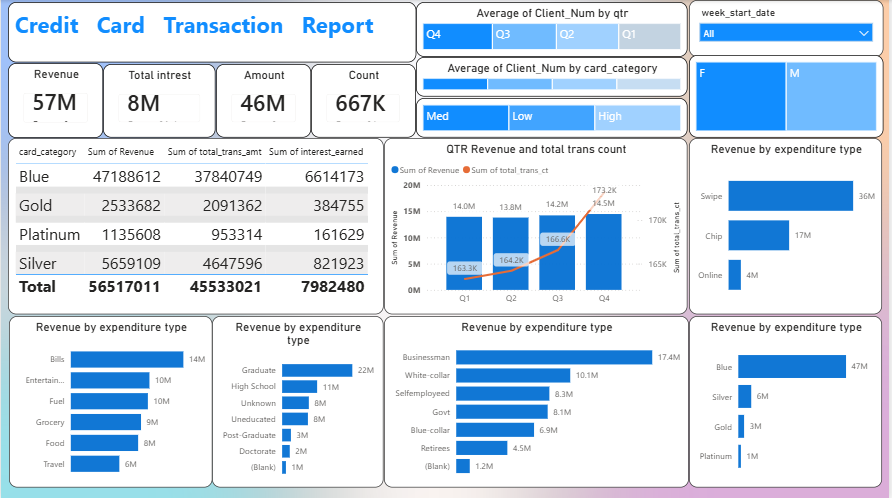

The dashboard page shown, as its layout file describes it:
{"tool":"powerbi","page":{"name":"Credit Card Transaction Report Dashboard - 1 ","canvas":[1280,720],"ordinal":1},"visuals":[{"type":"textbox","box":[9.8,3.3,587.6,86.8],"z":0},{"type":"lineStackedColumnComboChart","title":"QTR Revenue and total trans count","fields":{"Category":["public cc_detail.qtr"],"Y":["Sum(public cc_detail.Revenue)"],"Y2":["Sum(public cc_detail.total_trans_ct)"]},"box":[551.6,198.1,437,253.7],"z":1000},{"type":"barChart","title":" Revenue by expenditure type","fields":{"Y":["Sum(public cc_detail.Revenue)"],"Category":["public cc_detail.exp_type"]},"box":[11.5,455,293,247.2],"z":2000},{"type":"barChart","title":" Revenue by expenditure type","fields":{"Y":["Sum(public cc_detail.Revenue)"],"Category":["Cust_new.Education_Level"]},"box":[304,455.2,246.9,246.9],"z":3000},{"type":"barChart","title":" Revenue by expenditure type","fields":{"Y":["Sum(public cc_detail.Revenue)"],"Category":["Cust_new.Customer_Job"]},"box":[551.6,455,438.7,247.2],"z":4000},{"type":"barChart","title":" Revenue by expenditure type","fields":{"Y":["Sum(public cc_detail.Revenue)"],"Category":["public cc_detail.card_category"]},"box":[990.3,455,278.3,247.2],"z":5000},{"type":"barChart","title":" Revenue by expenditure type","fields":{"Y":["Sum(public cc_detail.Revenue)"],"Category":["public cc_detail.use_chip"]},"box":[990.3,198.1,278.3,253.7],"z":6000},{"type":"tableEx","fields":{"Values":["public cc_detail.card_category","Sum(public cc_detail.Revenue)","Sum(public cc_detail.total_trans_amt)","Sum(public cc_detail.interest_earned)"]},"box":[10.1,198.2,540.9,253.6],"z":7000},{"type":"cardVisual","title":"Revenue","fields":{"Data":["Sum(public cc_detail.Revenue)"]},"box":[9.8,90,137.5,108],"z":8000},{"type":"cardVisual","title":"Amount","fields":{"Data":["Sum(public cc_detail.total_trans_amt)"]},"box":[309.4,91.7,137.5,106.4],"z":9000},{"type":"cardVisual","title":"Total intrest","fields":{"Data":["Sum(public cc_detail.interest_earned)"]},"box":[147.3,91.7,162,106.4],"z":10000},{"type":"cardVisual","title":"Count","fields":{"Data":["Sum(public cc_detail.total_trans_ct)"]},"box":[446.9,91.7,150.6,106.4],"z":11000},{"type":"slicer","fields":{"Values":["public cc_detail.week_start_date"]},"box":[990.3,0,279.9,81.8],"z":12000},{"type":"treemap","fields":{"Group":["public cc_detail.qtr"],"Values":["Avg(Cust_new.Client_Num)"]},"box":[597.4,3.3,391.2,78.6],"z":13000},{"type":"treemap","fields":{"Group":["Cust_new.Gender"],"Values":["Avg(Cust_new.Client_Num)"]},"box":[990.3,78.6,279.9,119.5],"z":14000},{"type":"treemap","fields":{"Group":["public cc_detail.card_category"],"Values":["Avg(Cust_new.Client_Num)"]},"box":[597.4,81.8,391.2,57.3],"z":15000},{"type":"treemap","fields":{"Group":["Cust_new.IncomeGroup"],"Values":["Avg(Cust_new.Client_Num)"]},"box":[597.4,140.8,391.2,57.3],"z":16000}]}

Visuals, with their boxes in screenshot pixels (x1, y1, x2, y2), scaled from the page's 1280x720 canvas onto the 892x498 screenshot:
textbox: BBox(7, 2, 416, 62)
"QTR Revenue and total trans count" lineStackedColumnComboChart: BBox(384, 137, 689, 312)
" Revenue by expenditure type" barChart: BBox(8, 315, 212, 486)
" Revenue by expenditure type" barChart: BBox(212, 315, 384, 486)
" Revenue by expenditure type" barChart: BBox(384, 315, 690, 486)
" Revenue by expenditure type" barChart: BBox(690, 315, 884, 486)
" Revenue by expenditure type" barChart: BBox(690, 137, 884, 312)
tableEx - public cc_detail.card_category x Sum(public cc_detail.Revenue): BBox(7, 137, 384, 312)
"Revenue" cardVisual: BBox(7, 62, 103, 137)
"Amount" cardVisual: BBox(216, 63, 311, 137)
"Total intrest" cardVisual: BBox(103, 63, 216, 137)
"Count" cardVisual: BBox(311, 63, 416, 137)
slicer - public cc_detail.week_start_date: BBox(690, 0, 885, 57)
treemap - public cc_detail.qtr x Avg(Cust_new.Client_Num): BBox(416, 2, 689, 57)
treemap - Cust_new.Gender x Avg(Cust_new.Client_Num): BBox(690, 54, 885, 137)
treemap - public cc_detail.card_category x Avg(Cust_new.Client_Num): BBox(416, 57, 689, 96)
treemap - Cust_new.IncomeGroup x Avg(Cust_new.Client_Num): BBox(416, 97, 689, 137)
